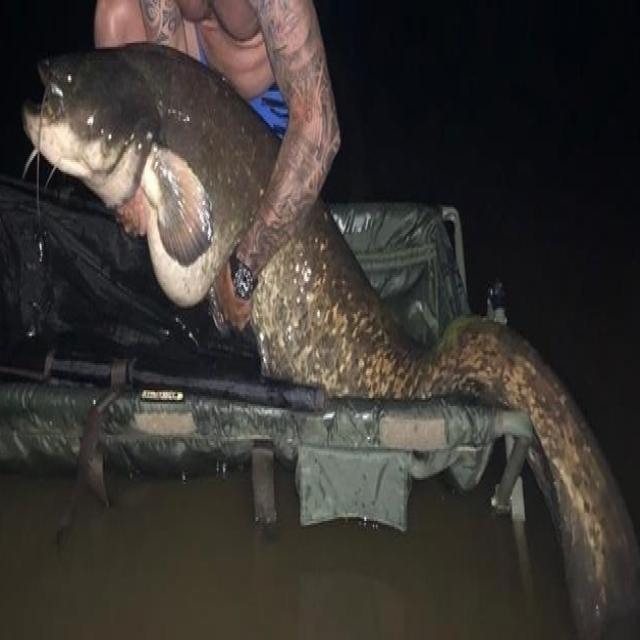Catfish: (20, 24, 640, 637)
